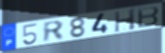4: (91, 12, 112, 35)
5: (22, 22, 38, 46)
8: (68, 16, 87, 38)
B: (136, 5, 160, 29)
H: (114, 8, 137, 33)
R: (42, 20, 66, 44)
